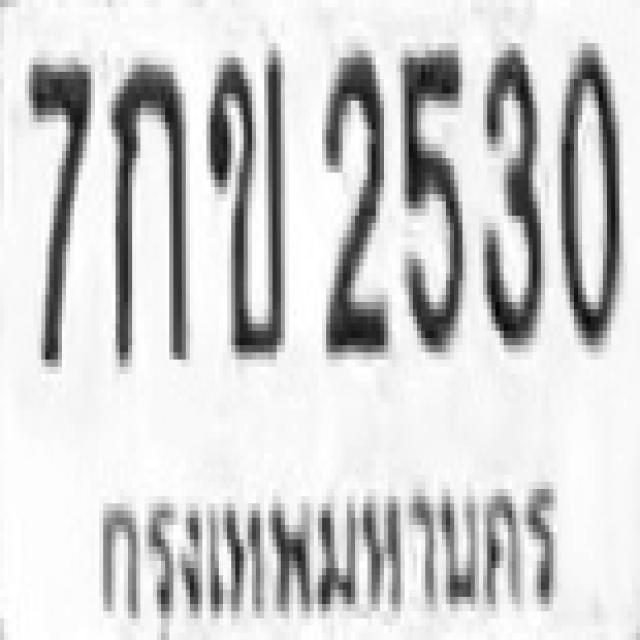0: (556, 36, 618, 345)
10GorGai: (107, 58, 186, 360)
11KhorKhai: (202, 44, 281, 352)
2: (320, 44, 386, 352)
3: (479, 43, 541, 345)
5: (397, 43, 462, 345)
7: (24, 54, 86, 363)
Bangkok: (87, 466, 568, 628)
